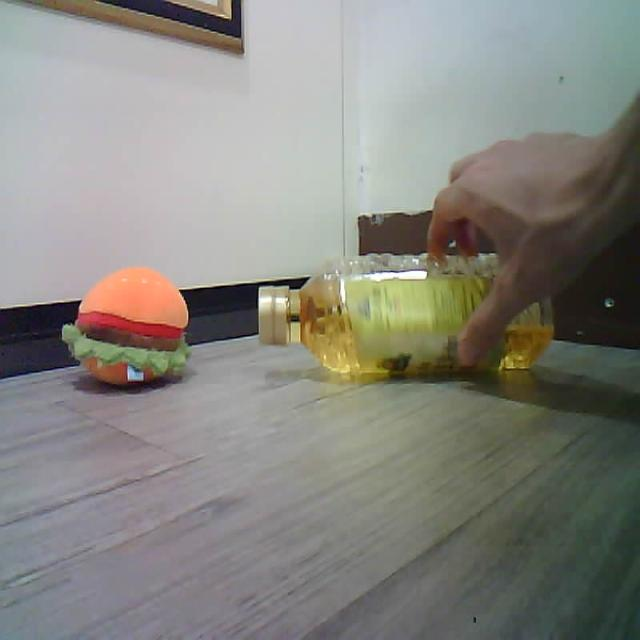bottle: (258, 253, 498, 375), (471, 301, 552, 368)
